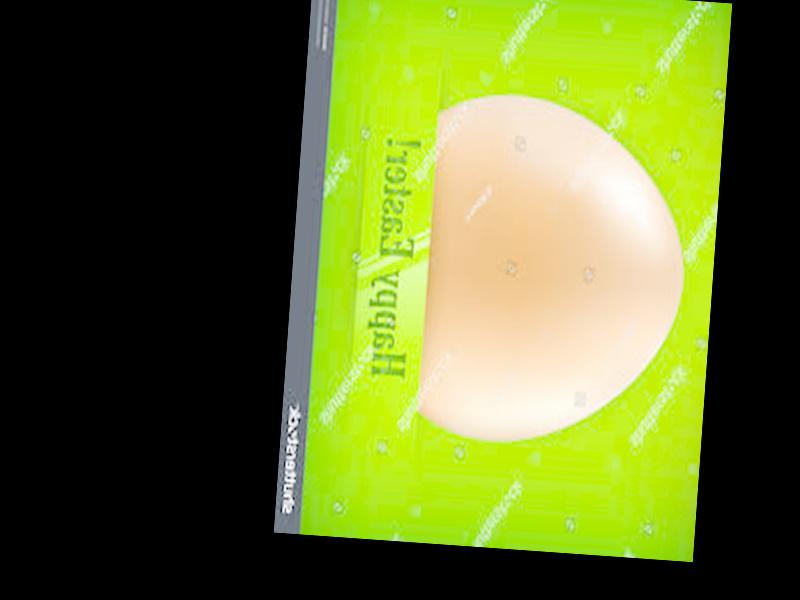Eggs: (416, 91, 695, 451)
